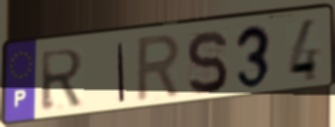3: (234, 21, 276, 93)
4: (283, 16, 324, 84)
I: (115, 41, 127, 104)
R: (133, 31, 184, 106), (38, 47, 86, 115)
S: (184, 29, 230, 98)
